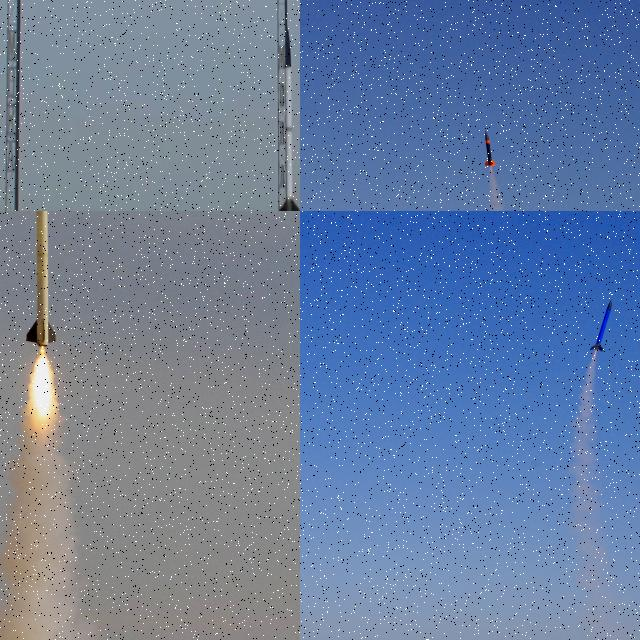Rocket: (24, 211, 58, 348), (277, 27, 300, 211), (590, 300, 612, 352), (484, 130, 496, 167)
